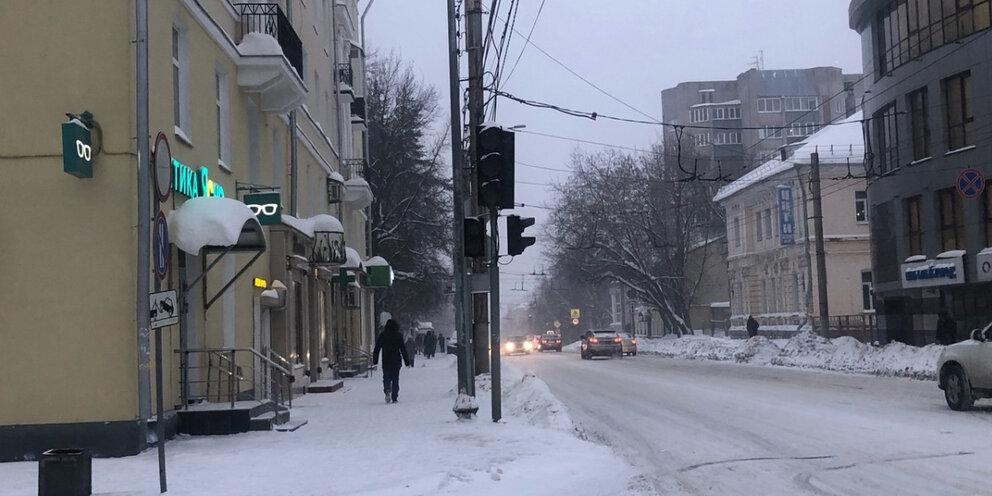off traffic light: (477, 126, 504, 205), (507, 215, 536, 255), (463, 217, 485, 257)
road_sign: (148, 289, 178, 330), (956, 168, 985, 199)
